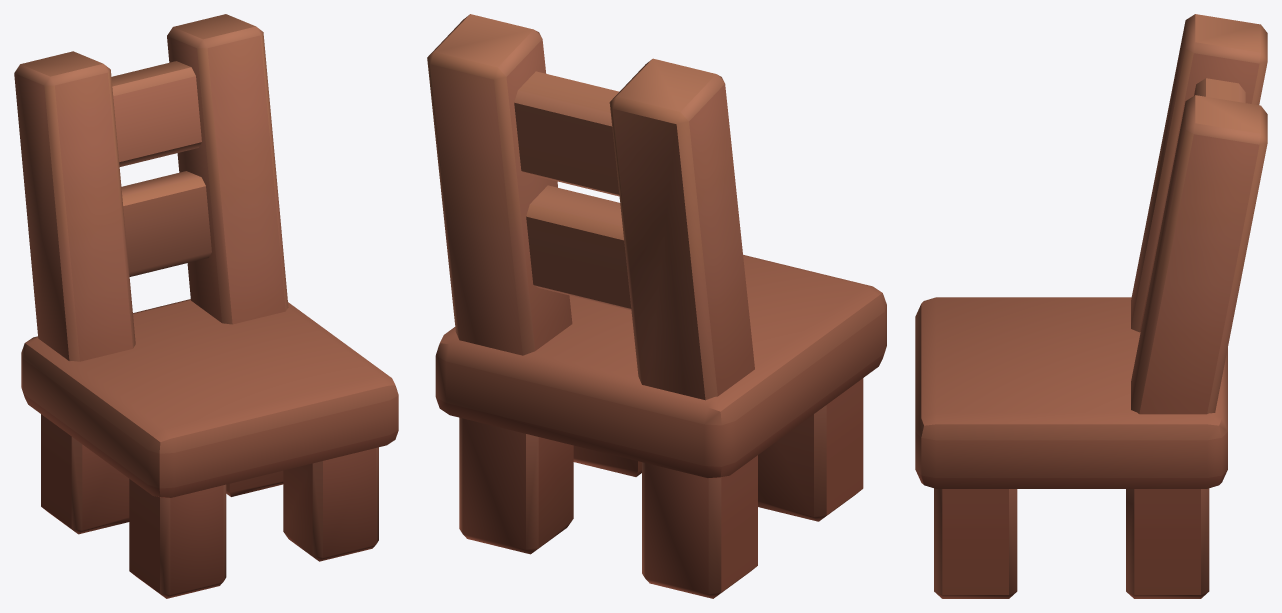
File: kay-cadeira-madeira.gltf
3 views of the same model, side by side, from view 1: azimuth 30°, elevation 25°; view 2: azimuth 150°, elevation 25°; view 3: azimuth 270°, elevation 25° (orthographic). The views are drawn at different scales.
Visible parts, largest first — view 1: chair_A_wood; view 2: chair_A_wood; view 3: chair_A_wood.
Part boxes in pixels (x1,y1,x2,y2): chair_A_wood: [14, 14, 398, 598]; chair_A_wood: [427, 14, 886, 598]; chair_A_wood: [915, 14, 1267, 598].
Bounding box in the file's own units: 0.4875 × 0.8179 × 0.5493.
Materials: 1 (1 with a texture image).
